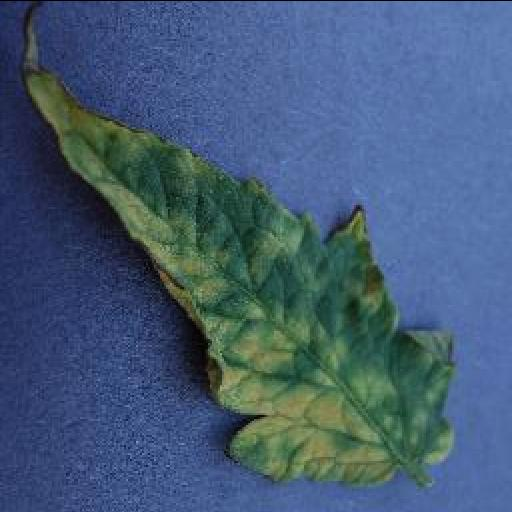disease_tomato: (18, 57, 464, 485)
